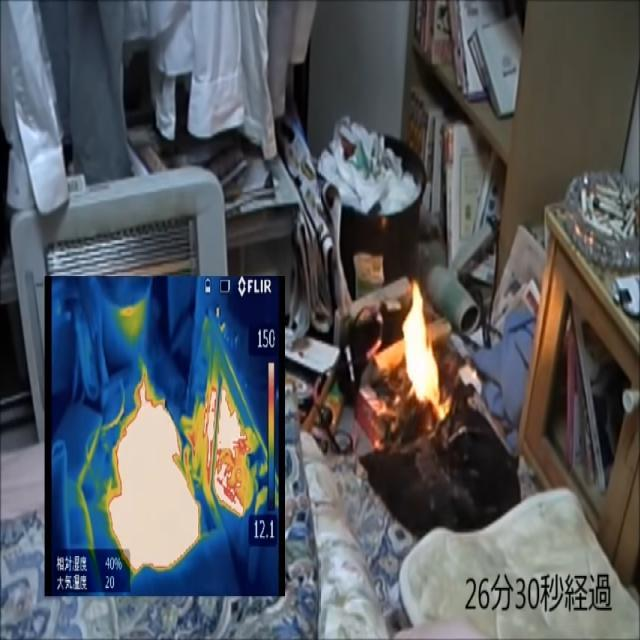fire: (109, 359, 205, 575), (206, 372, 262, 521)
